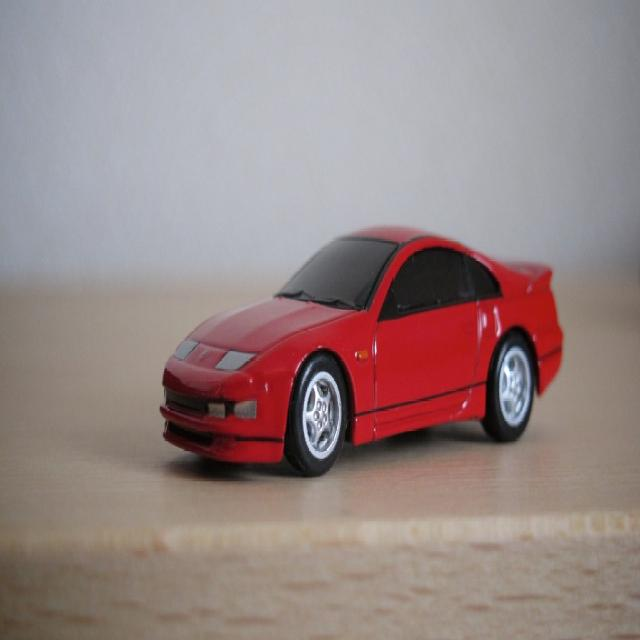car: (158, 224, 567, 478)
